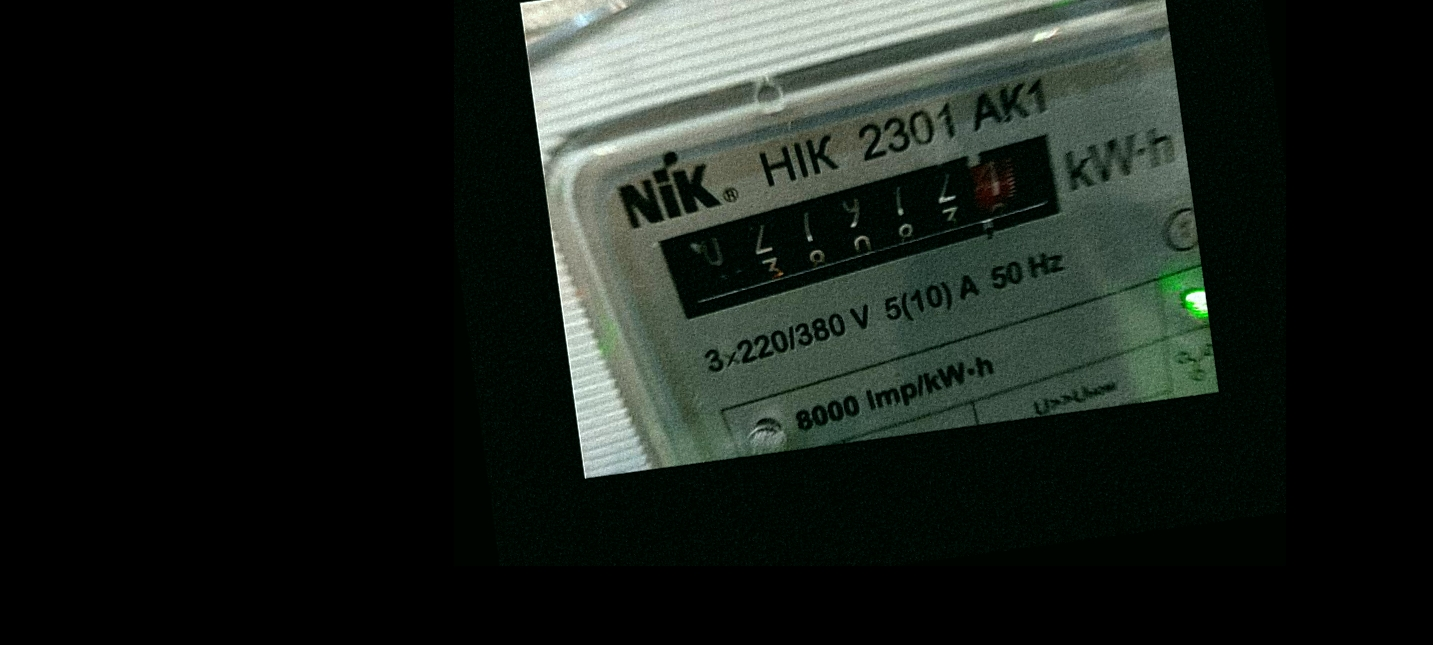0: (696, 230, 728, 269)
1: (981, 155, 1009, 200)
2: (743, 214, 777, 257), (928, 165, 961, 206)
7: (882, 177, 914, 221), (792, 205, 820, 245)
9: (838, 192, 868, 230)
screen: (634, 120, 1103, 333)
